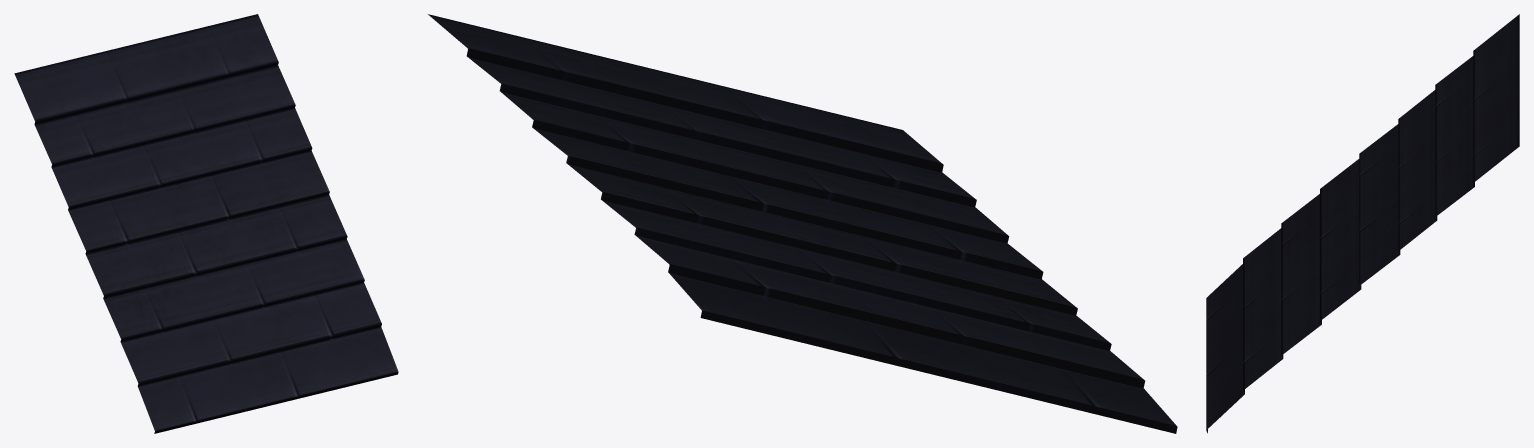
The model's file is Roof_TWO_BY_TWO 1.fbx.
3 views of the same model, side by side, from view 1: azimuth 30°, elevation 25°; view 2: azimuth 150°, elevation 25°; view 3: azimuth 270°, elevation 25° (orthographic). The views are drawn at different scales.
Visible parts, largest first — view 1: Roof_TWO_BY_TWO; view 2: Roof_TWO_BY_TWO; view 3: Roof_TWO_BY_TWO.
Boxes of the visible parts, <box> form: Roof_TWO_BY_TWO: <box>14,14,398,433</box>; Roof_TWO_BY_TWO: <box>428,14,1177,433</box>; Roof_TWO_BY_TWO: <box>1206,14,1519,433</box>.
Bounding box in the file's own units: 2 × 2.02 × 2.
